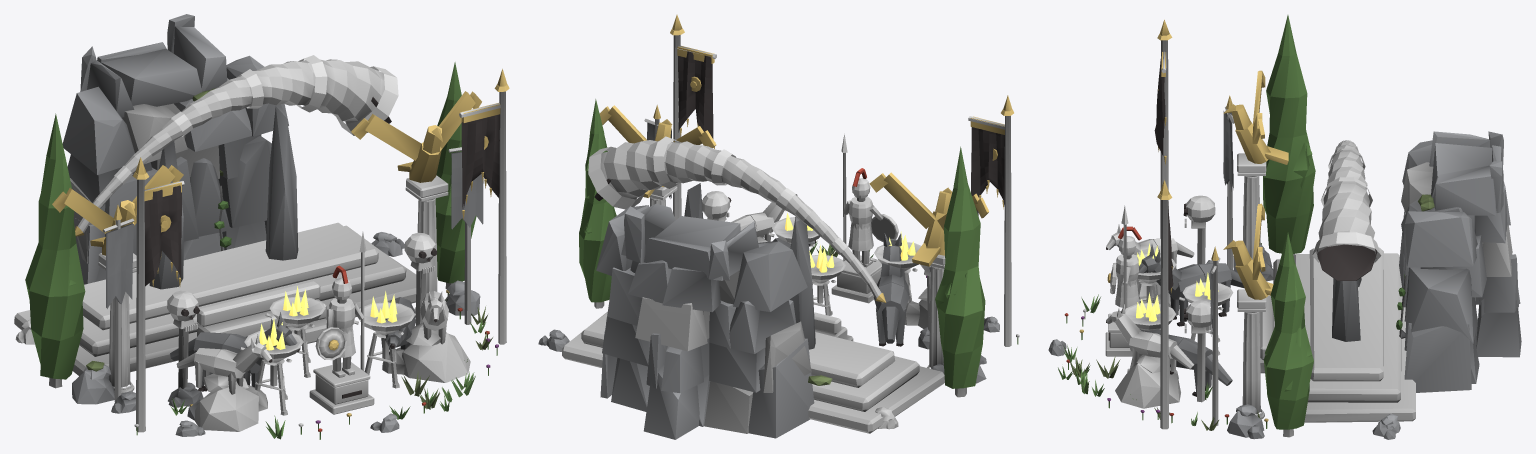
Rendered from horn-of-lycaon-l3.glb.
The picture shows the model from 3 angles, left to right: view 1: azimuth 30°, elevation 25°; view 2: azimuth 150°, elevation 25°; view 3: azimuth 270°, elevation 25°; orthographic projection. The views are drawn at different scales.
Visible parts, largest first — view 1: horn-of-lycaon-l3; view 2: horn-of-lycaon-l3; view 3: horn-of-lycaon-l3.
Boxes of the visible parts, box(x1,y1,x2,y2) form: horn-of-lycaon-l3: box(14, 14, 509, 439); horn-of-lycaon-l3: box(538, 14, 1019, 439); horn-of-lycaon-l3: box(1048, 15, 1521, 439).
Bounding box in the file's own units: 1.71 × 1.02 × 1.75.
